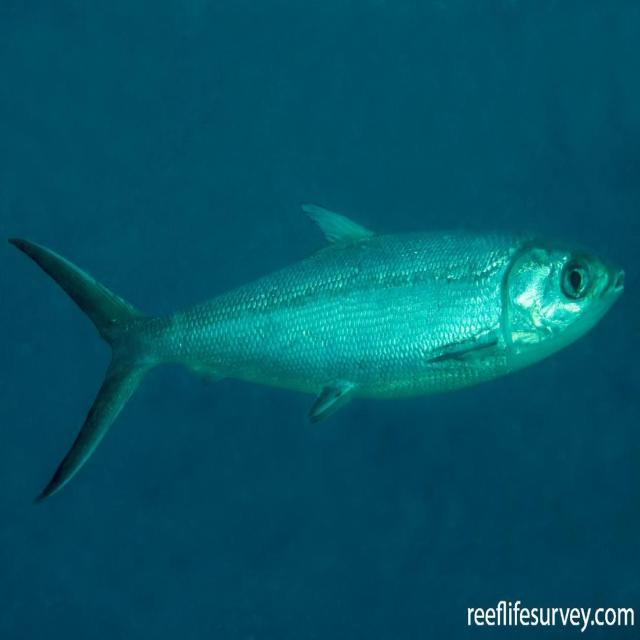Bangus: (0, 107, 628, 512)
